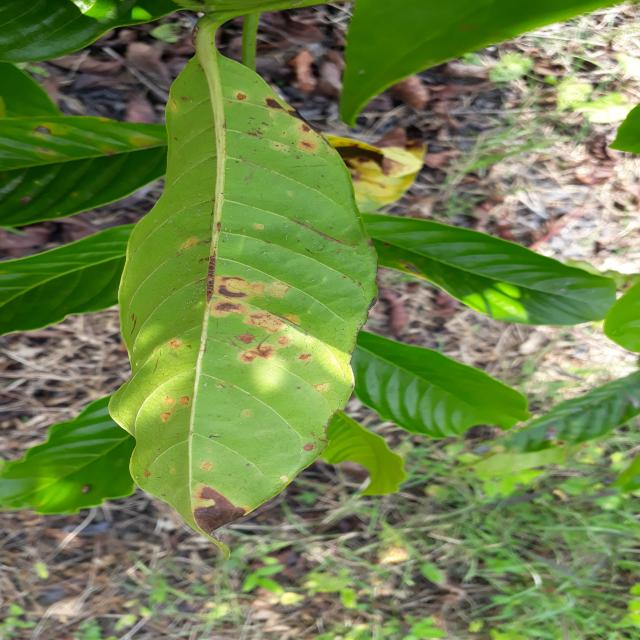Enfermedad-Roya: (93, 53, 378, 538)
